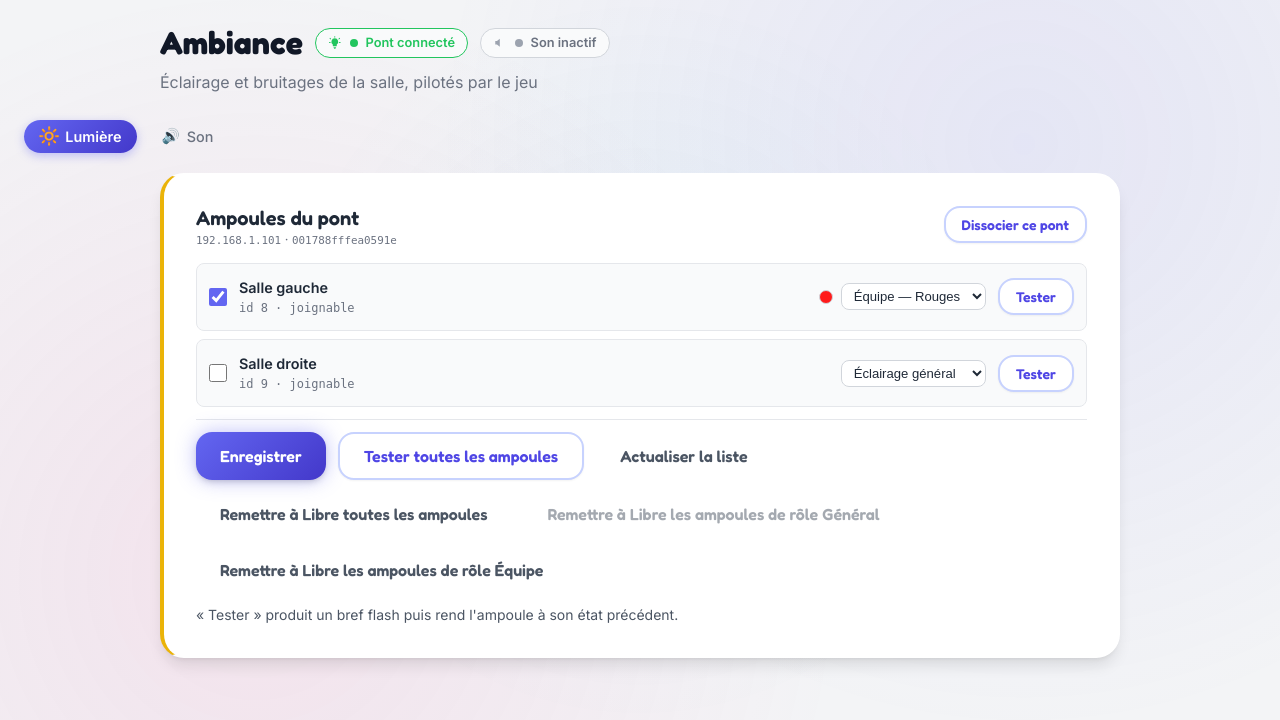
Test: AmbiancePage — #213 rôle par ampoule › repasser une ampoule d'équipe en « Éclairage général » retire team au moment de l'enregistrement
The image size is (1280, 720).
Check: the text "Salle droite" is shown, box [239,355,317,372]
Select "Éclairage général" in the dropdown named "Rôle de Salle gauche". click: (913, 297)
box: [841,283,986,310]
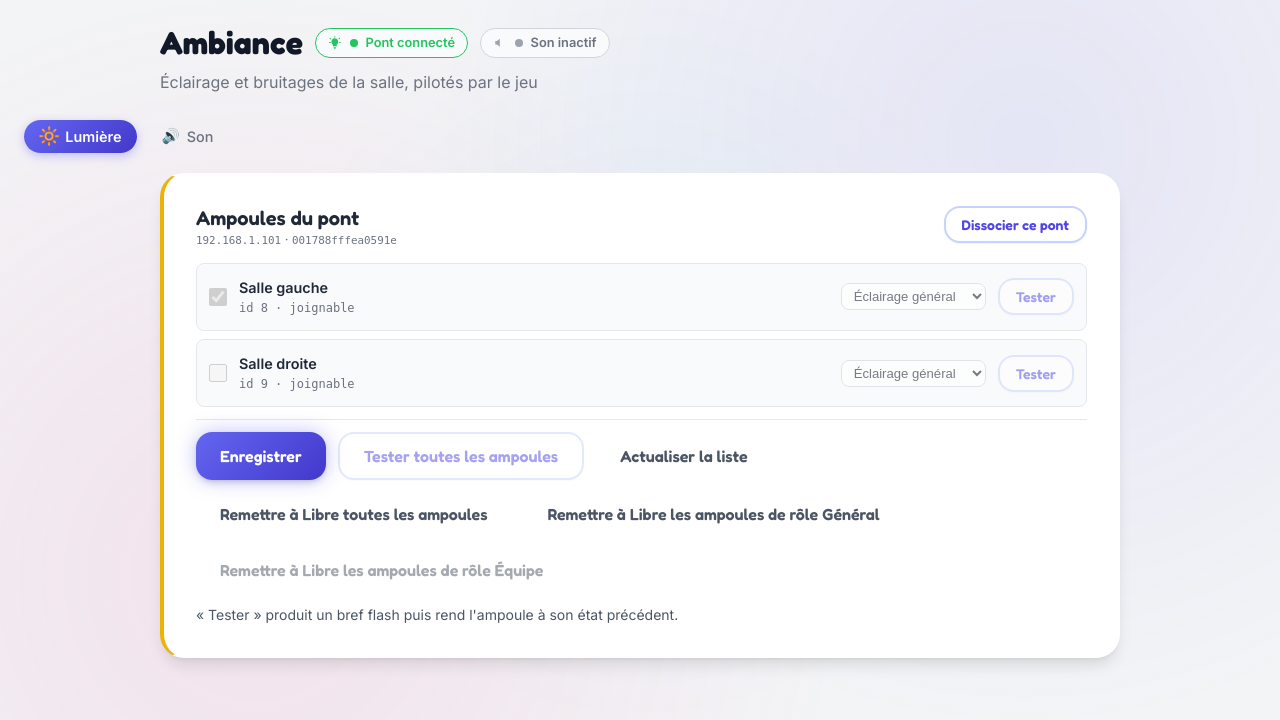
Click the button "Enregistrer". click: (261, 456)
box: [196,432,326,480]
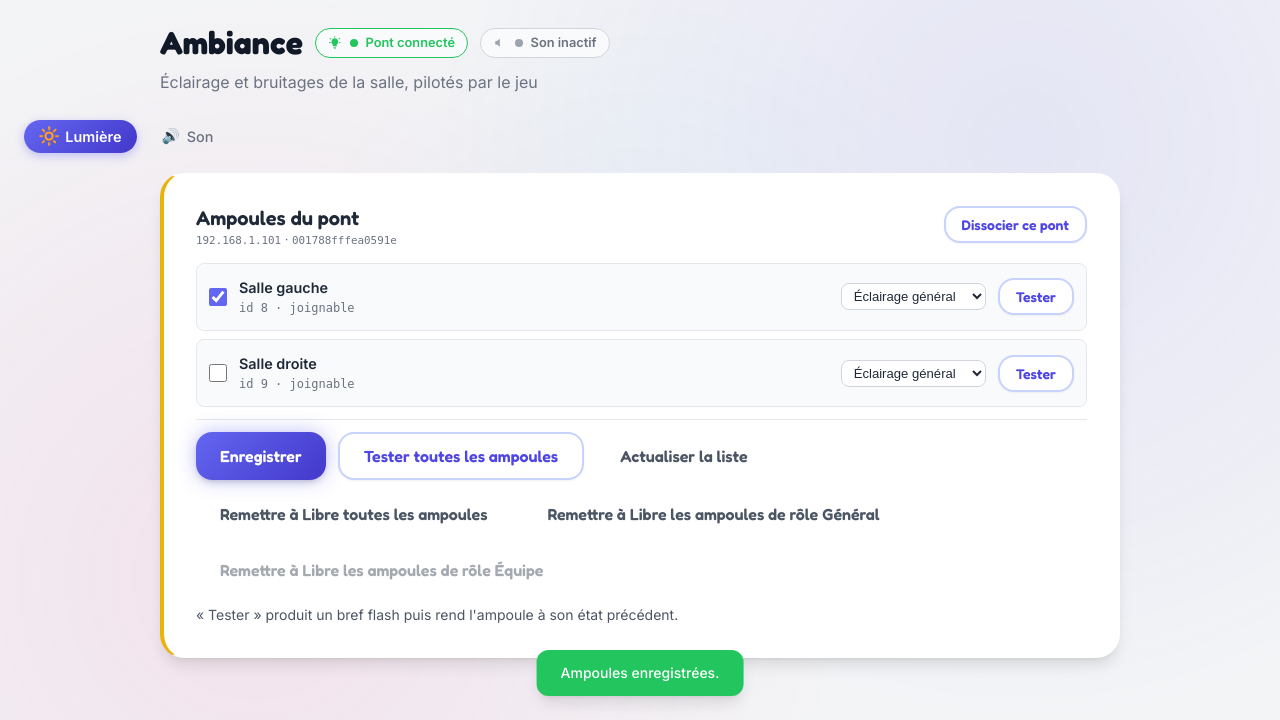
Check: the text "Ampoules enregistrées." is shown, box [537,650,743,696]
